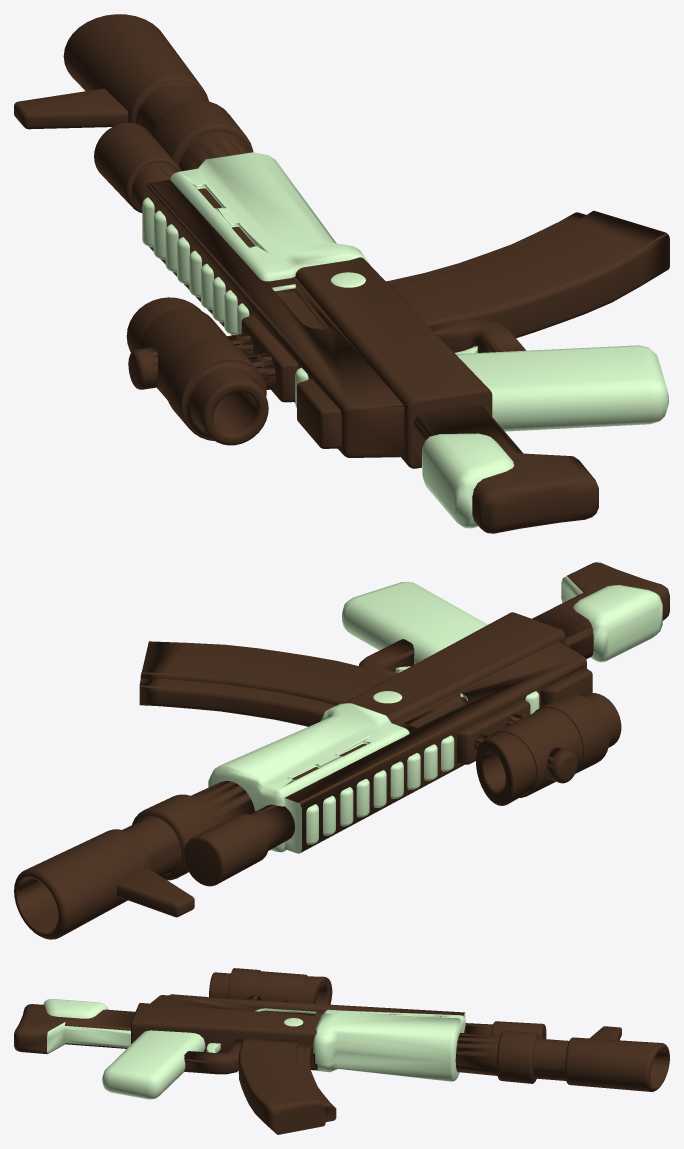
Rendered from ToyObject_087.fbx.
The picture shows the model from 3 angles, top to bottom: view 1: azimuth 30°, elevation 25°; view 2: azimuth 150°, elevation 25°; view 3: azimuth 270°, elevation 25°; orthographic projection. The views are drawn at different scales.
Parts seen in each view (by area): view 1: Object.062; view 2: Object.062; view 3: Object.062.
Part boxes in pixels (x1,y1,x2,y2): Object.062: [14, 14, 669, 533]; Object.062: [14, 562, 669, 939]; Object.062: [14, 968, 669, 1134].
Size of the model in its own units: 0.1325 by 0.0222 by 0.2577.
